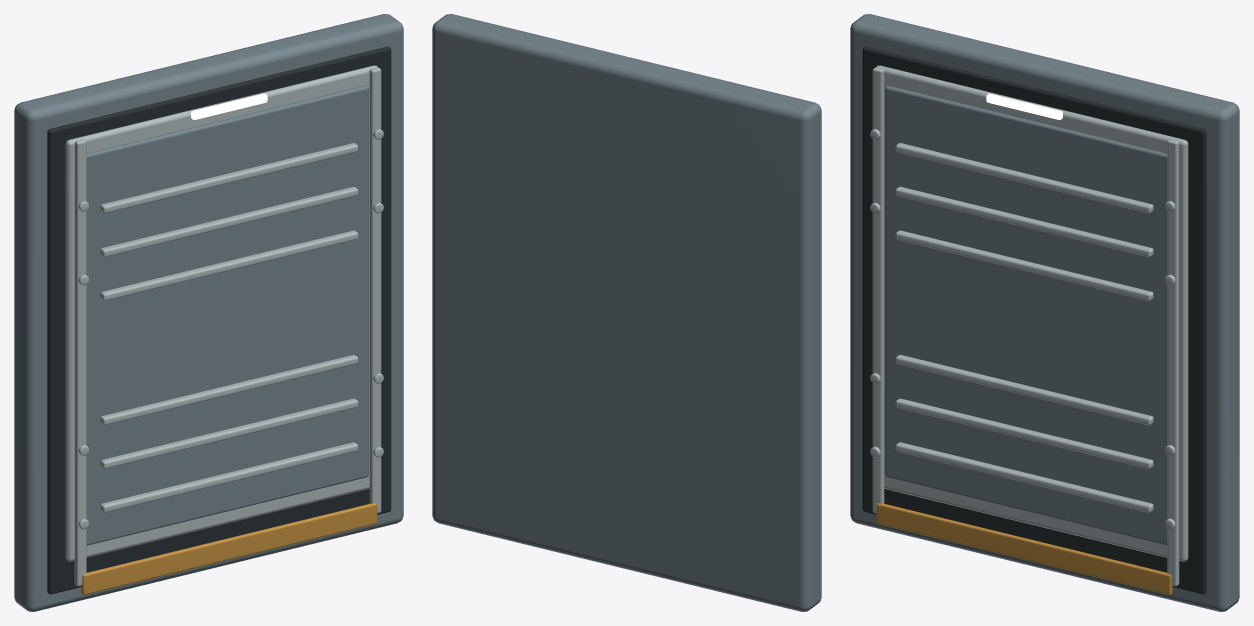
File: stormworks_precision_gate_v1.glb
3 renders of one model, left to right at view 1: azimuth 30°, elevation 25°; view 2: azimuth 150°, elevation 25°; view 3: azimuth 330°, elevation 25°, orthographic.
Visible parts, largest first — view 1: RecessedBluePanel, PressureLeaf, InsetSeal, RaisedPressurePanel, ServiceWarningEnamel, EdgeWearStrip, EdgeWearStrip.001, HorizontalStampedRib.004, HorizontalStampedRib.001, HorizontalStampedRib.005, HorizontalStampedRib, HorizontalStampedRib.002 (+2 smaller); view 2: PressureLeaf; view 3: RecessedBluePanel, PressureLeaf, InsetSeal, RaisedPressurePanel, ServiceWarningEnamel, EdgeWearStrip.001, EdgeWearStrip, HorizontalStampedRib.004, HorizontalStampedRib.001, HorizontalStampedRib.005, HorizontalStampedRib, HorizontalStampedRib.002 (+2 smaller).
Part boxes in pixels (x1=…): RecessedBluePanel: x1=86, y1=85, x2=368, y2=545; PressureLeaf: x1=14, y1=14, x2=403, y2=611; InsetSeal: x1=47, y1=46, x2=391, y2=594; RaisedPressurePanel: x1=65, y1=65, x2=377, y2=561; ServiceWarningEnamel: x1=81, y1=503, x2=377, y2=594; EdgeWearStrip: x1=74, y1=139, x2=86, y2=586; EdgeWearStrip.001: x1=369, y1=67, x2=381, y2=513; HorizontalStampedRib.004: x1=100, y1=186, x2=358, y2=257; HorizontalStampedRib.001: x1=100, y1=398, x2=358, y2=468; HorizontalStampedRib.005: x1=100, y1=143, x2=358, y2=213; HorizontalStampedRib: x1=100, y1=442, x2=358, y2=512; HorizontalStampedRib.002: x1=100, y1=354, x2=358, y2=425; PressureLeaf: x1=432, y1=14, x2=821, y2=611; RecessedBluePanel: x1=885, y1=85, x2=1167, y2=545; PressureLeaf: x1=850, y1=14, x2=1239, y2=611; InsetSeal: x1=862, y1=46, x2=1206, y2=594; RaisedPressurePanel: x1=876, y1=65, x2=1188, y2=561; ServiceWarningEnamel: x1=876, y1=503, x2=1172, y2=594; EdgeWearStrip.001: x1=1167, y1=139, x2=1179, y2=586; EdgeWearStrip: x1=872, y1=67, x2=884, y2=513; HorizontalStampedRib.004: x1=895, y1=186, x2=1153, y2=257; HorizontalStampedRib.001: x1=895, y1=398, x2=1153, y2=468; HorizontalStampedRib.005: x1=895, y1=143, x2=1153, y2=213; HorizontalStampedRib: x1=895, y1=442, x2=1153, y2=512; HorizontalStampedRib.002: x1=895, y1=354, x2=1153, y2=425.
Size of the model in its own units: 1.72 by 2.18 by 0.254.
